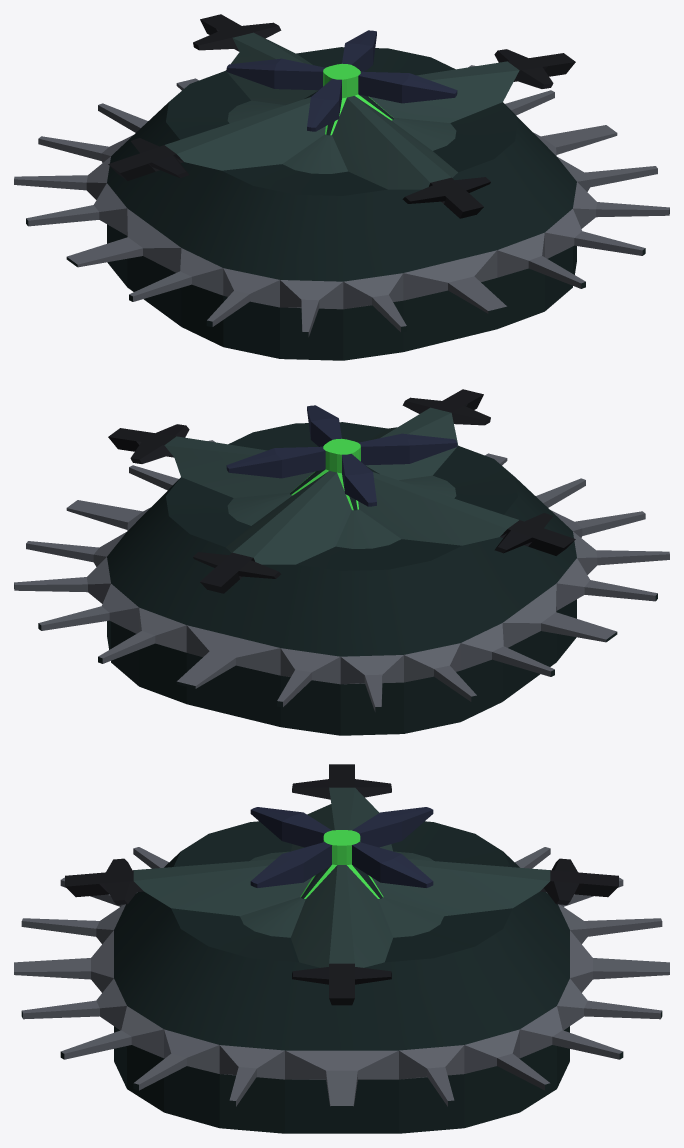
Rendered from Boss4.fbx.
The picture shows the model from 3 angles, top to bottom: view 1: azimuth 30°, elevation 25°; view 2: azimuth 150°, elevation 25°; view 3: azimuth 270°, elevation 25°; orthographic projection. The views are drawn at different scales.
Parts seen in each view (by area): view 1: Cube; view 2: Cube; view 3: Cube.
Part boxes in pixels (x1,y1,x2,y2): Cube: (14,14,669,360); Cube: (14,389,669,735); Cube: (14,764,669,1133).
Bounding box in the file's own units: 203 × 68.23 × 203.
1 material, 1 textured.
